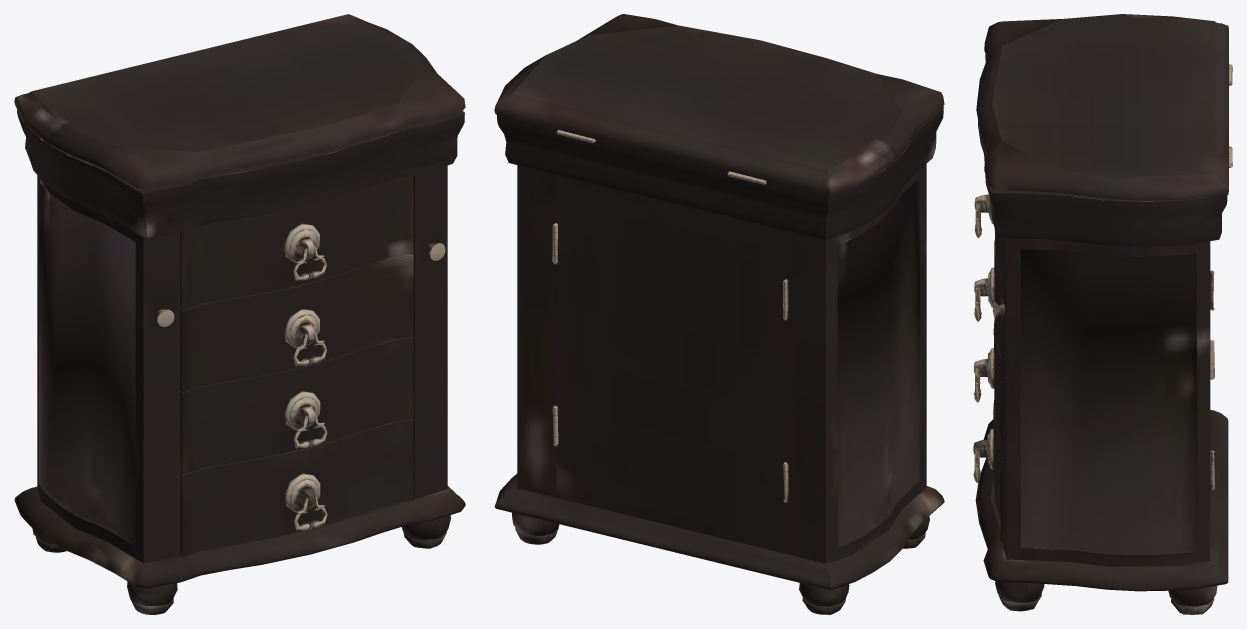
Rendered from obj_old_jewelry_box.glb.
3 views of the same model, side by side, from view 1: azimuth 30°, elevation 25°; view 2: azimuth 150°, elevation 25°; view 3: azimuth 270°, elevation 25° (orthographic).
Parts seen in each view (by area): view 1: Box002_M_InternalParts_0; view 2: Box002_M_InternalParts_0; view 3: Box002_M_InternalParts_0.
Part boxes in pixels (x1,y1,x2,y2): Box002_M_InternalParts_0: [14, 14, 465, 614]; Box002_M_InternalParts_0: [494, 14, 944, 614]; Box002_M_InternalParts_0: [973, 14, 1232, 614].
Size of the model in its own units: 0.255 by 0.3003 by 0.1581.
3 materials, 3 textured.
